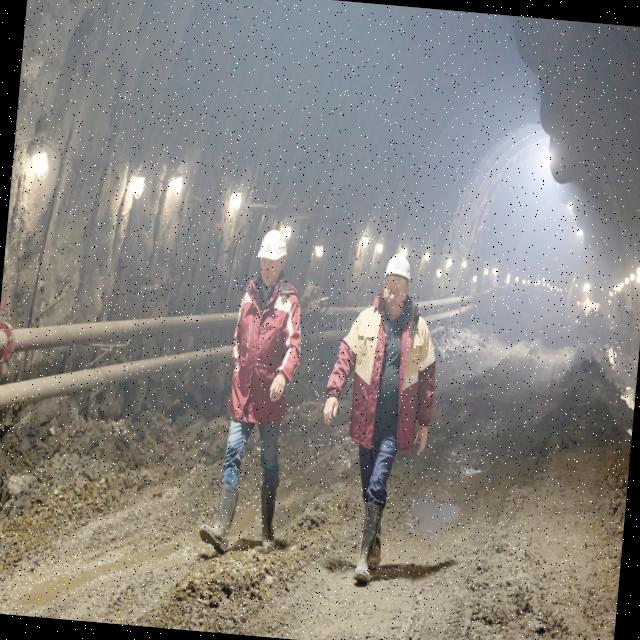Helmet: (257, 229, 292, 266), (382, 252, 415, 285)
NoJacket: (353, 291, 422, 446), (234, 266, 297, 423)
